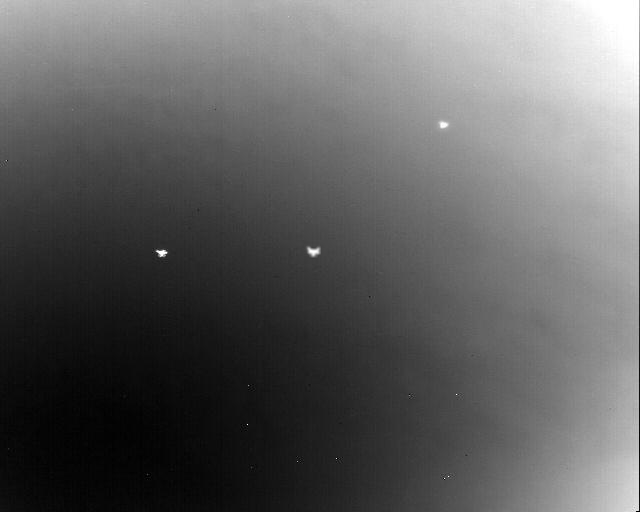plane: (307, 245, 321, 256), (156, 248, 168, 257)
